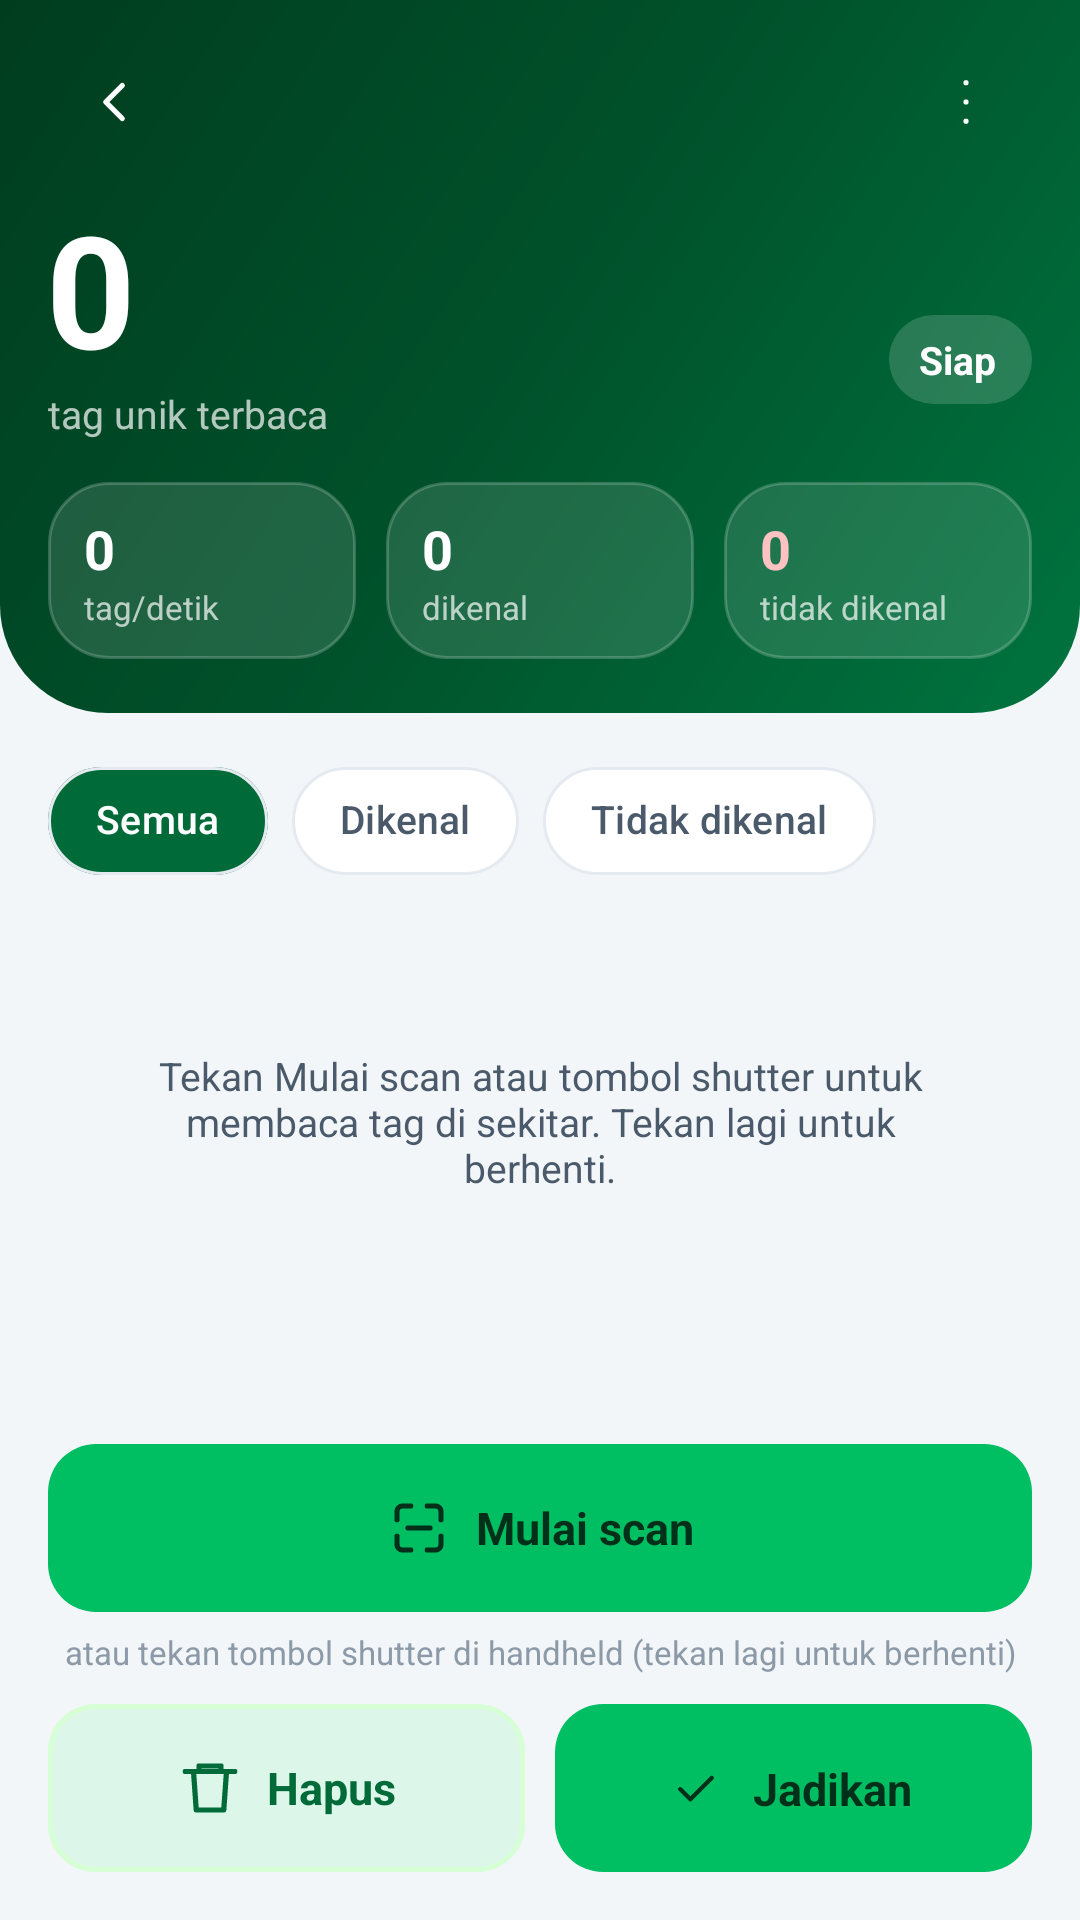

Icon click points for this 1080px x 1920px phone screenshot, format [x,y]:
Kembali: [114,102]
